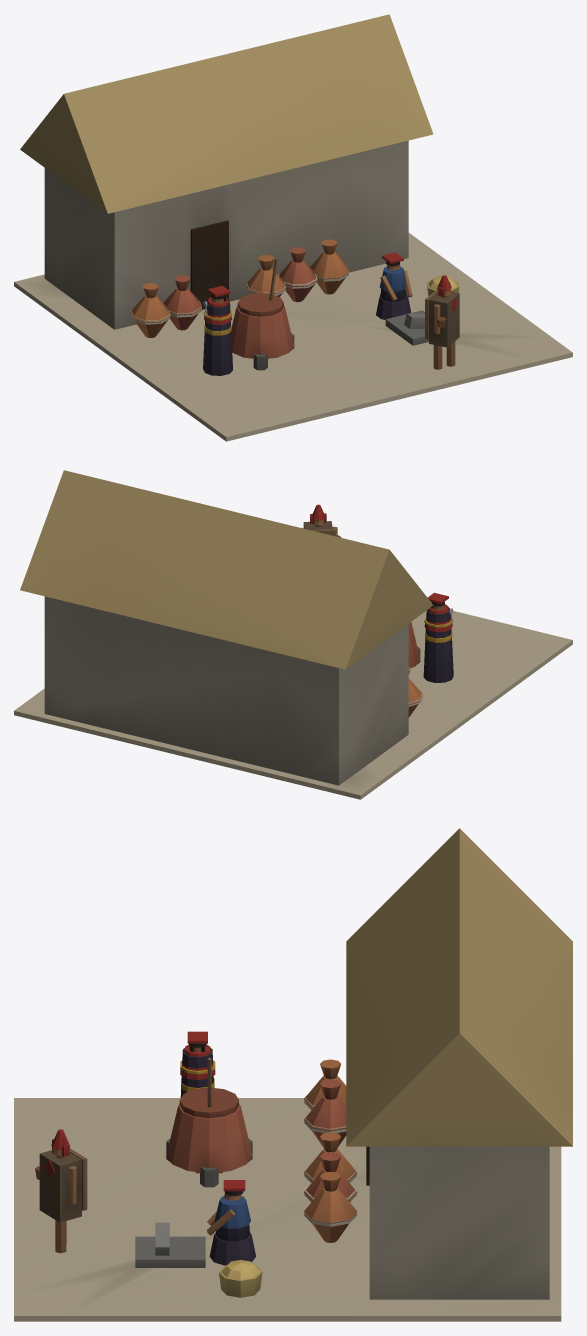
The model's file is bakery.glb.
3 renders of one model, top to bottom at view 1: azimuth 30°, elevation 25°; view 2: azimuth 150°, elevation 25°; view 3: azimuth 270°, elevation 25°, orthographic. The views are drawn at different scales.
Visible parts, largest first — view 1: base; view 2: base; view 3: base.
Part boxes in pixels (bbox=[...]): base: bbox=[14, 14, 572, 441]; base: bbox=[14, 470, 572, 799]; base: bbox=[14, 828, 572, 1321].
Bounding box in the file's own units: 6.6 × 3.98 × 7.15.
